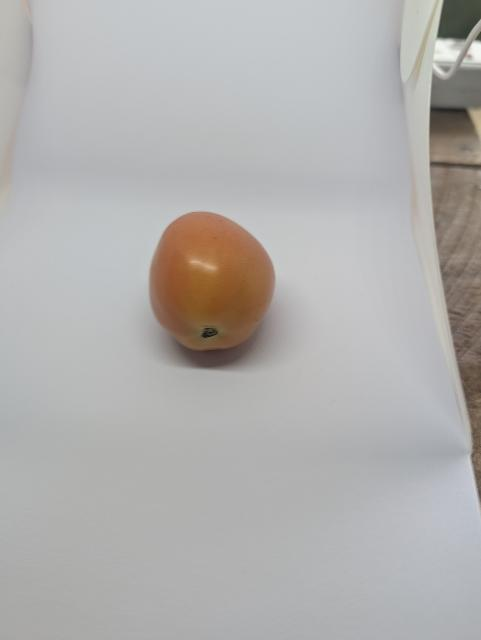turning: (145, 207, 280, 358)
